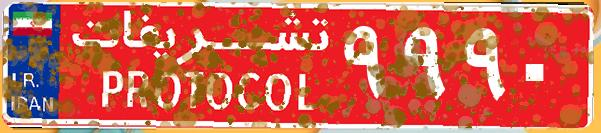0: (520, 20, 580, 115)
9: (340, 20, 400, 115), (400, 20, 460, 115), (460, 20, 520, 115)
تشریفات: (60, 8, 340, 125)
